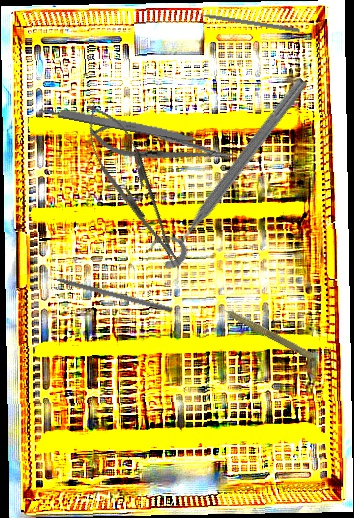Chopper: (187, 5, 302, 33)
Fixation Ring: (143, 65, 314, 275)
Handpiece: (210, 297, 316, 362)
Hook Surgical: (33, 269, 174, 314)
Needle Holder: (71, 94, 196, 278), (88, 115, 235, 176)
Scalpel Handle: (38, 102, 198, 145)
